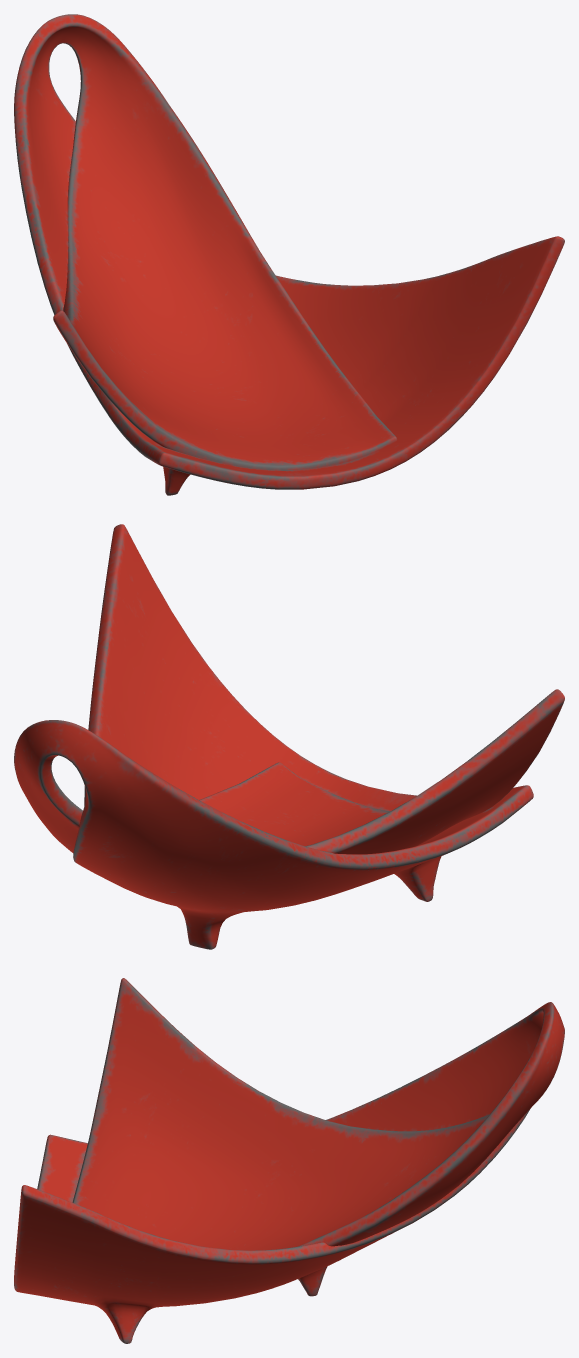
The picture shows the model from 3 angles, top to bottom: view 1: azimuth 30°, elevation 25°; view 2: azimuth 150°, elevation 25°; view 3: azimuth 270°, elevation 25°; orthographic projection. The views are drawn at different scales.
Bounding box in the file's own units: 9.32 × 5.71 × 10.01.
1 material, 1 textured.
